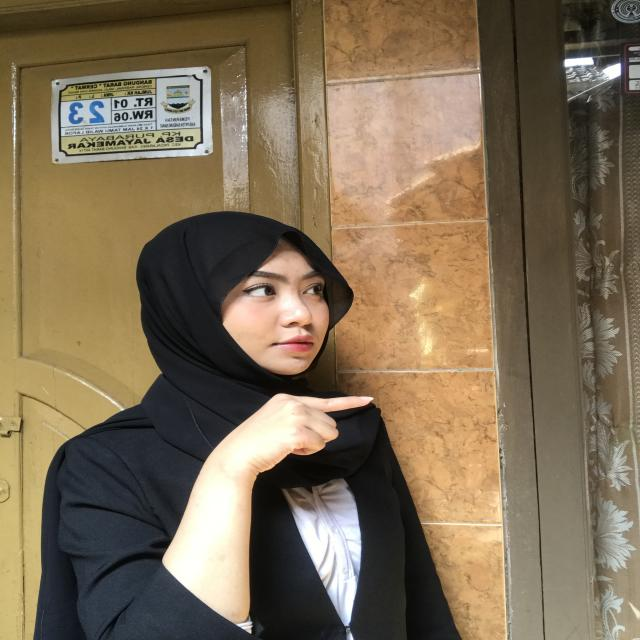kamu: (212, 373, 406, 495)
